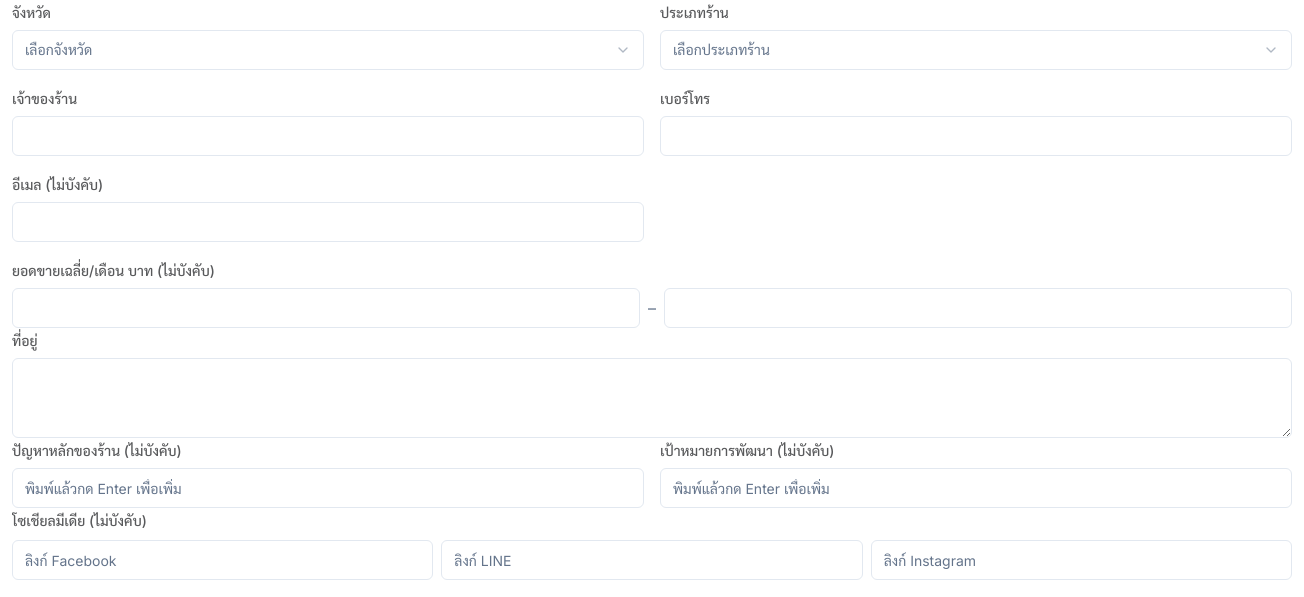
Scenario: StoreGeneralInfoFields › offers the seeded store types as a dropdown instead of free text
Click the dropdown labelled "ประเภทร้าน" at [721, 50], box left=660, top=30, right=1292, bottom=70
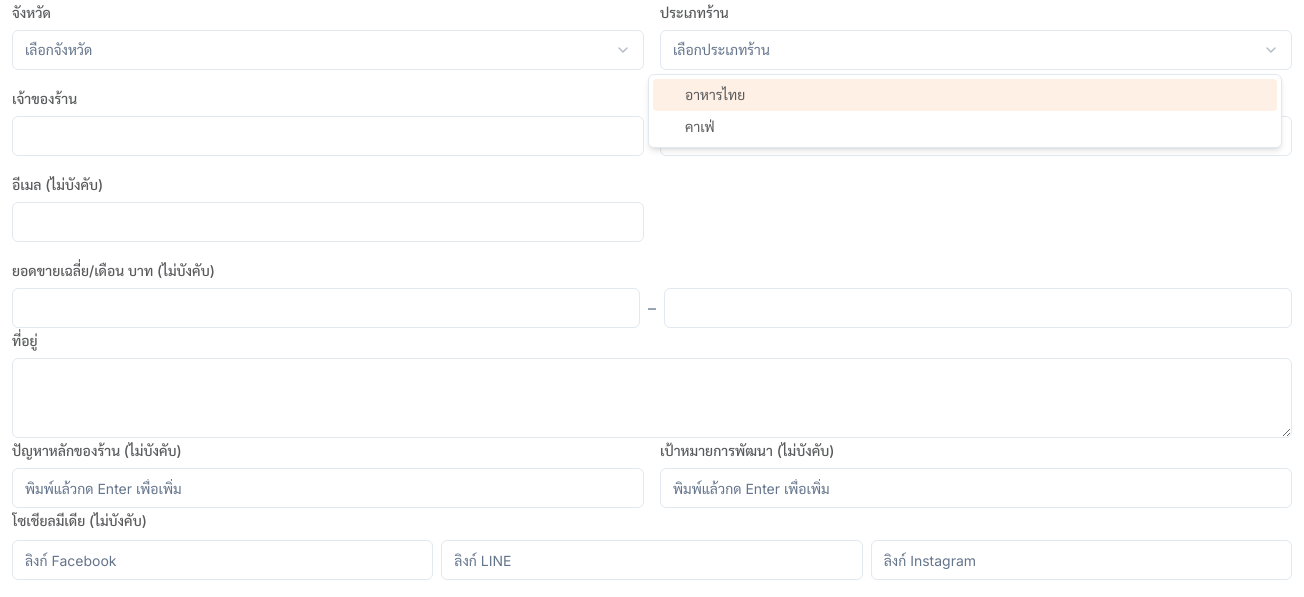
Expected: the option "อาหารไทย" is shown, left=653, top=79, right=1277, bottom=111
Expected: the option "คาเฟ่" is shown, left=685, top=118, right=715, bottom=135
